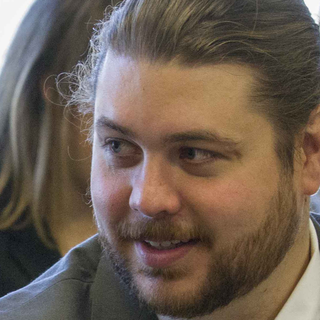eye: (171, 142, 220, 166), (99, 133, 140, 159)
